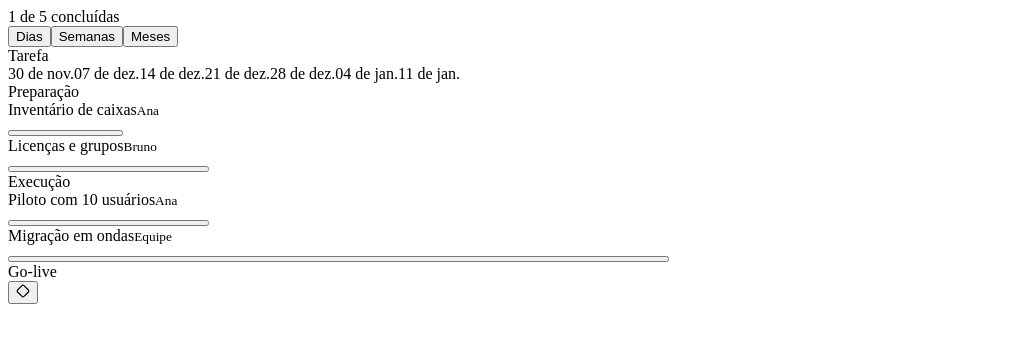
Test case: lays tasks on a time axis, switches scale and opens a task
Later steps or results of the test are not shown.
Check: the text "1 de 5 concluídas" is shown, box [8,8,120,25]
Click the button "Dias" at x=29, y=36, box [8,26,51,47]
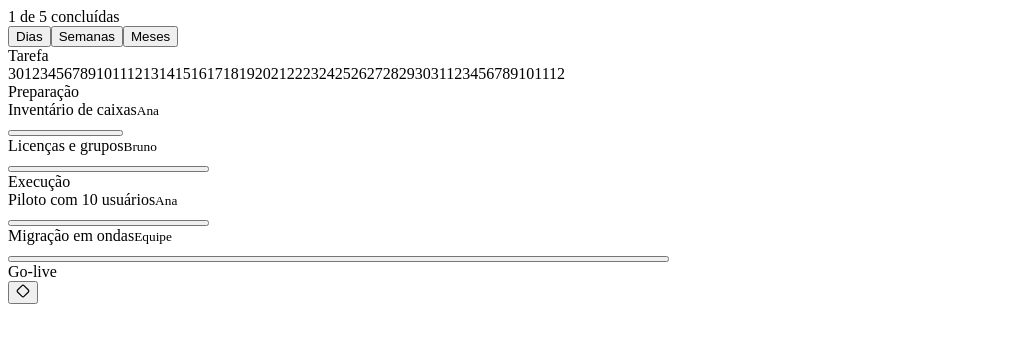
Click the button named "Piloto com 10 usuários:" at x=109, y=223, box [8,220,209,226]
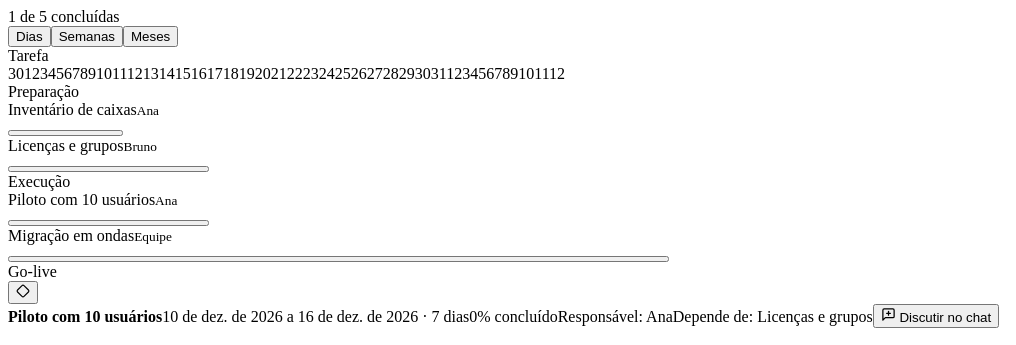
Check: the text "Depende de: Licenças e grupos" is shown, box [673,308,873,325]
